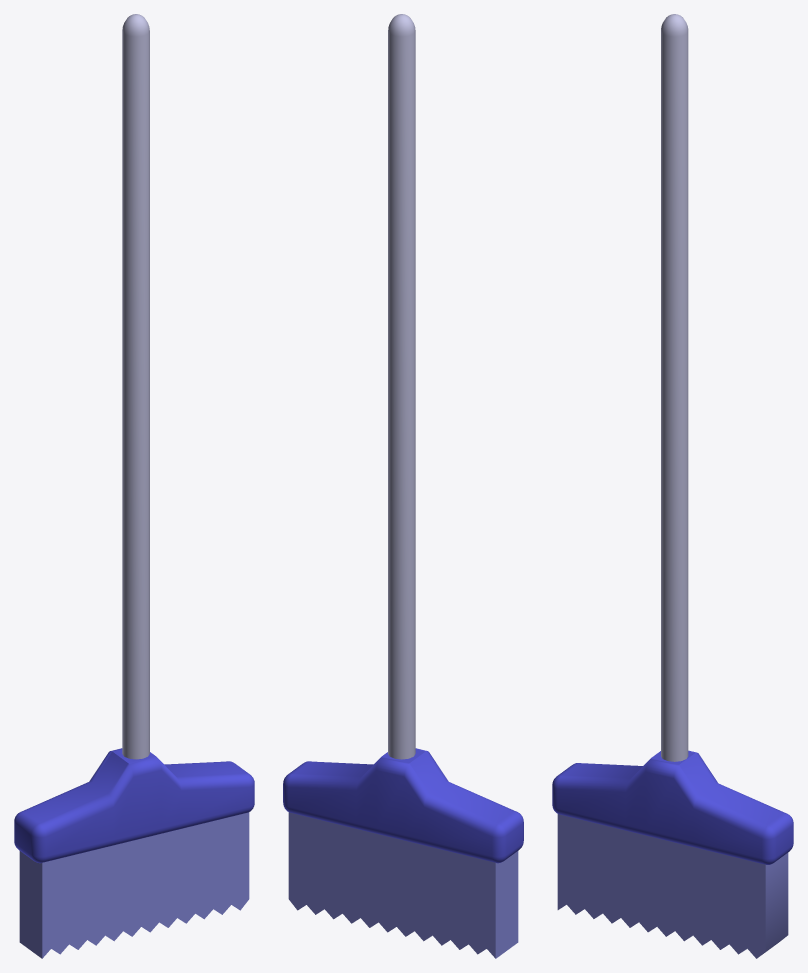
The picture shows the model from 3 angles, left to right: view 1: azimuth 30°, elevation 25°; view 2: azimuth 150°, elevation 25°; view 3: azimuth 330°, elevation 25°; orthographic projection.
Parts seen in each view (by area): view 1: Object_5, Object_4, Object_4.003; view 2: Object_5, Object_4, Object_4.003; view 3: Object_5, Object_4, Object_4.003.
Boxes of the visible parts, bbox=[...] form: Object_5: bbox=[19, 812, 249, 958]; Object_4: bbox=[122, 14, 149, 759]; Object_4.003: bbox=[14, 748, 254, 863]; Object_5: bbox=[288, 812, 518, 958]; Object_4: bbox=[388, 14, 415, 759]; Object_4.003: bbox=[283, 748, 523, 863]; Object_5: bbox=[557, 814, 788, 958]; Object_4: bbox=[661, 14, 688, 761]; Object_4.003: bbox=[552, 750, 793, 864].
Size of the model in its own units: 0.2556 by 1 by 0.0525.
